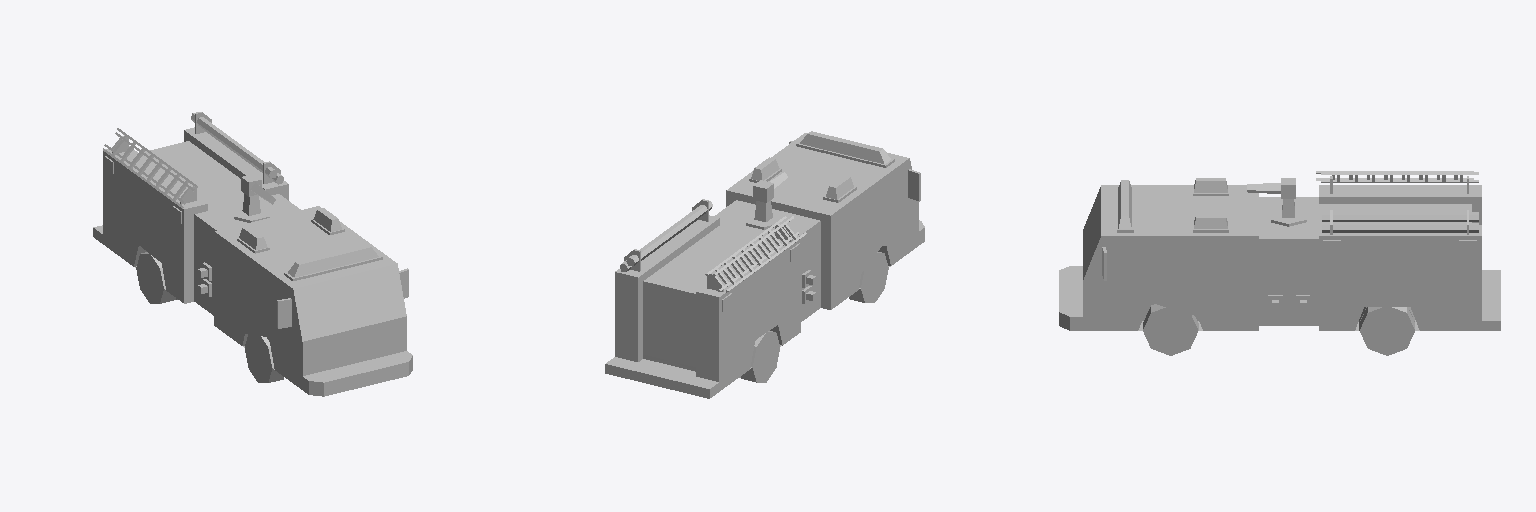
Rendered from Veh_Firetruck_01.obj.
3 views of the same model, side by side, from view 1: azimuth 30°, elevation 25°; view 2: azimuth 150°, elevation 25°; view 3: azimuth 270°, elevation 25° (orthographic).
Size of the model in its own units: 1.85 by 2.02 by 5.41.